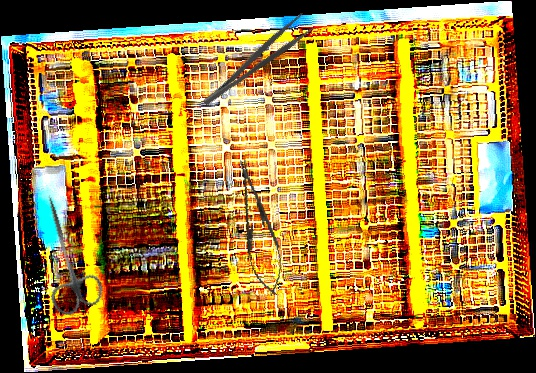Dressing Forceps: (194, 11, 316, 109)
Iris Scissors: (22, 188, 108, 319)
Needle Holder: (226, 156, 291, 299)
